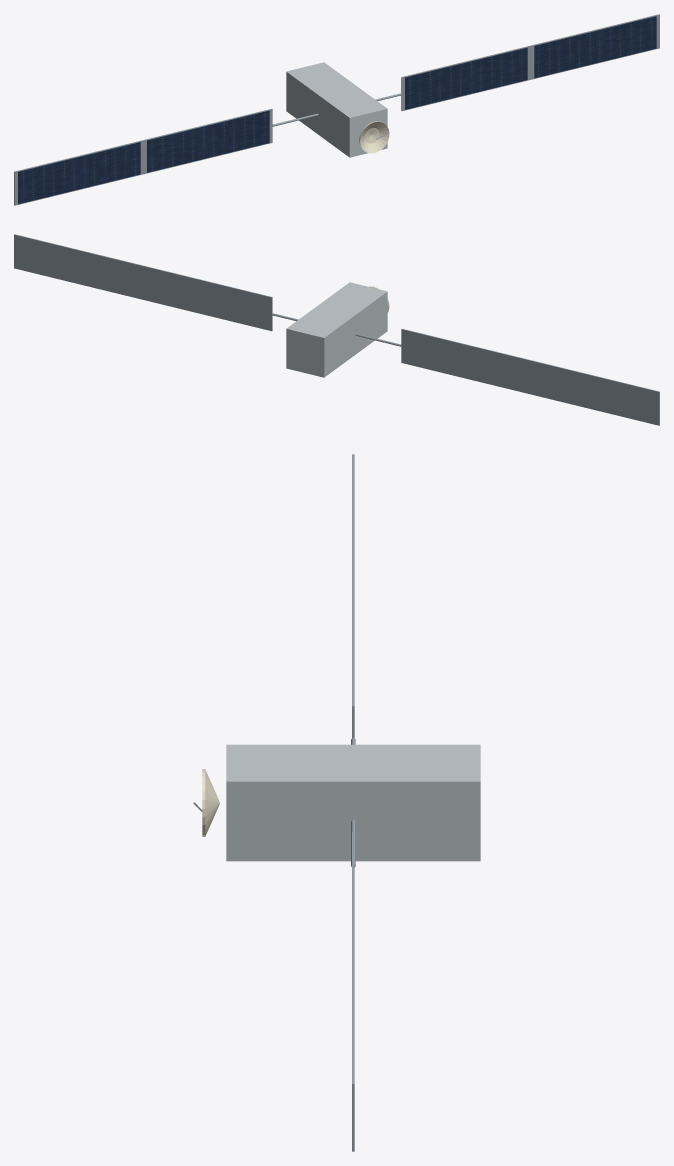
File: ref-spacebus-4000c3-37206.glb
3 views of the same model, one above another, from view 1: azimuth 30°, elevation 25°; view 2: azimuth 150°, elevation 25°; view 3: azimuth 270°, elevation 25° (orthographic). The views are drawn at different scales.
Parts seen in each view (by area): view 1: Photovoltaic laminates (×4), Spacecraft body, Array frame (×4), Reflector dish; view 2: Array frame (×4), Spacecraft body; view 3: Spacecraft body.
Boxes of the visible parts, bbox=[...] form: Photovoltaic laminates (×4): bbox=[18, 16, 656, 204]; Spacecraft body: bbox=[286, 62, 387, 157]; Array frame (×4): bbox=[14, 14, 659, 205]; Reflector dish: bbox=[359, 121, 389, 153]; Array frame (×4): bbox=[14, 234, 659, 425]; Spacecraft body: bbox=[286, 282, 387, 377]; Spacecraft body: bbox=[226, 744, 480, 861].
Bounding box in the file's own units: 34 × 2 × 6.55.
4 materials, 1 textured.
